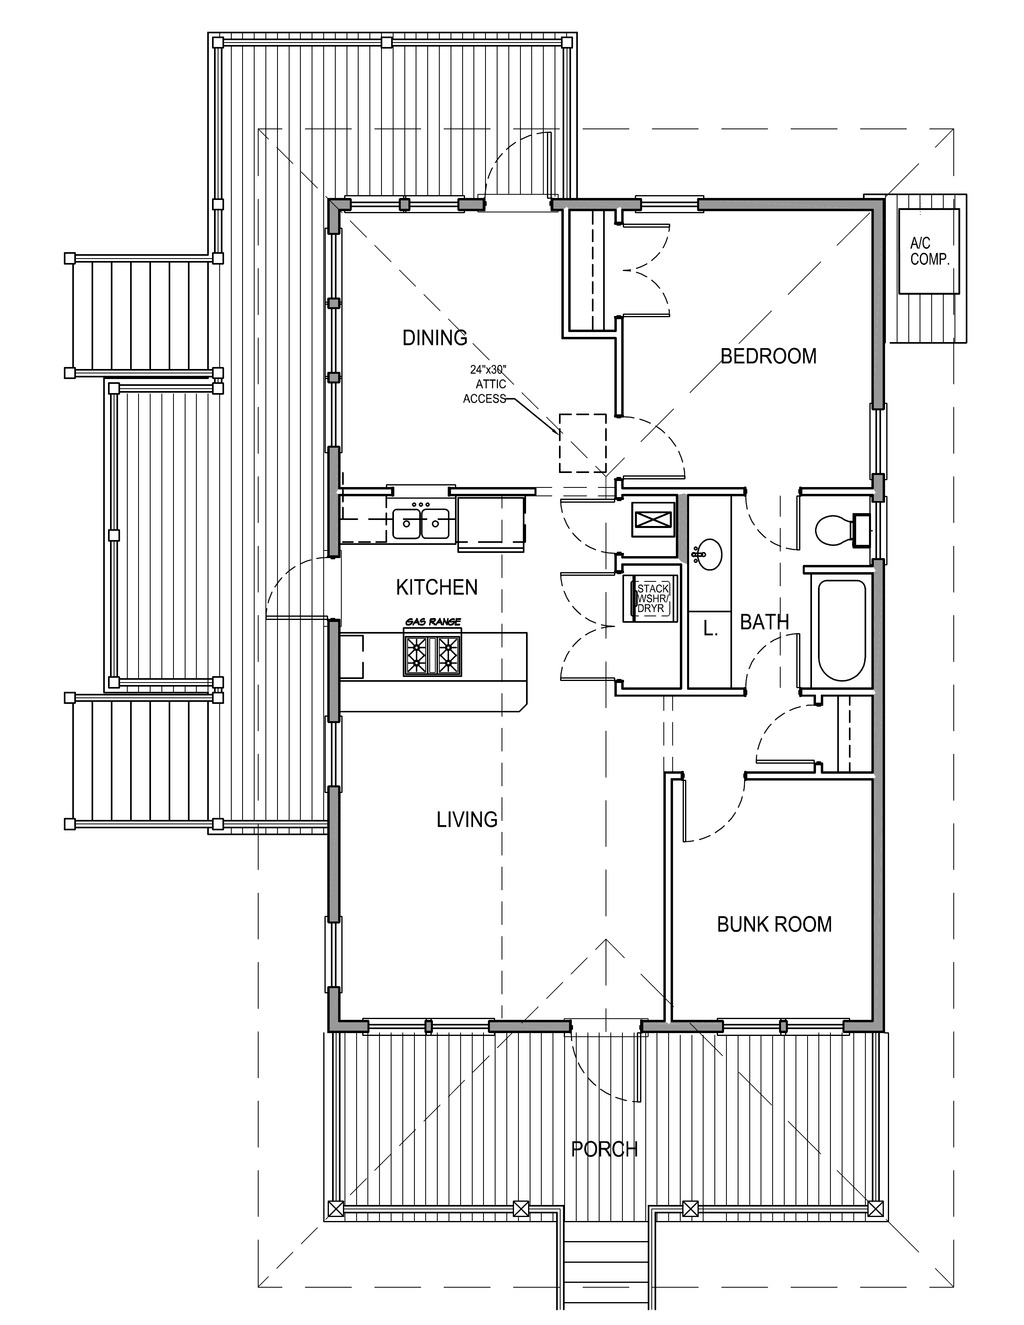door: (556, 564, 622, 683), (611, 215, 668, 322), (748, 700, 821, 777), (620, 412, 687, 487), (677, 769, 745, 842), (744, 486, 808, 557), (556, 497, 615, 557), (745, 631, 806, 690)
large_sink: (810, 501, 880, 562)
small_sink: (684, 497, 734, 614)
stairs: (59, 255, 217, 380), (63, 695, 214, 824), (546, 1203, 665, 1317)
tub: (801, 570, 876, 695)
twin_sink: (387, 502, 466, 548)
windows: (321, 225, 344, 457), (342, 187, 463, 224), (360, 1017, 510, 1039), (706, 1015, 849, 1036), (318, 914, 346, 994), (870, 397, 891, 483)
